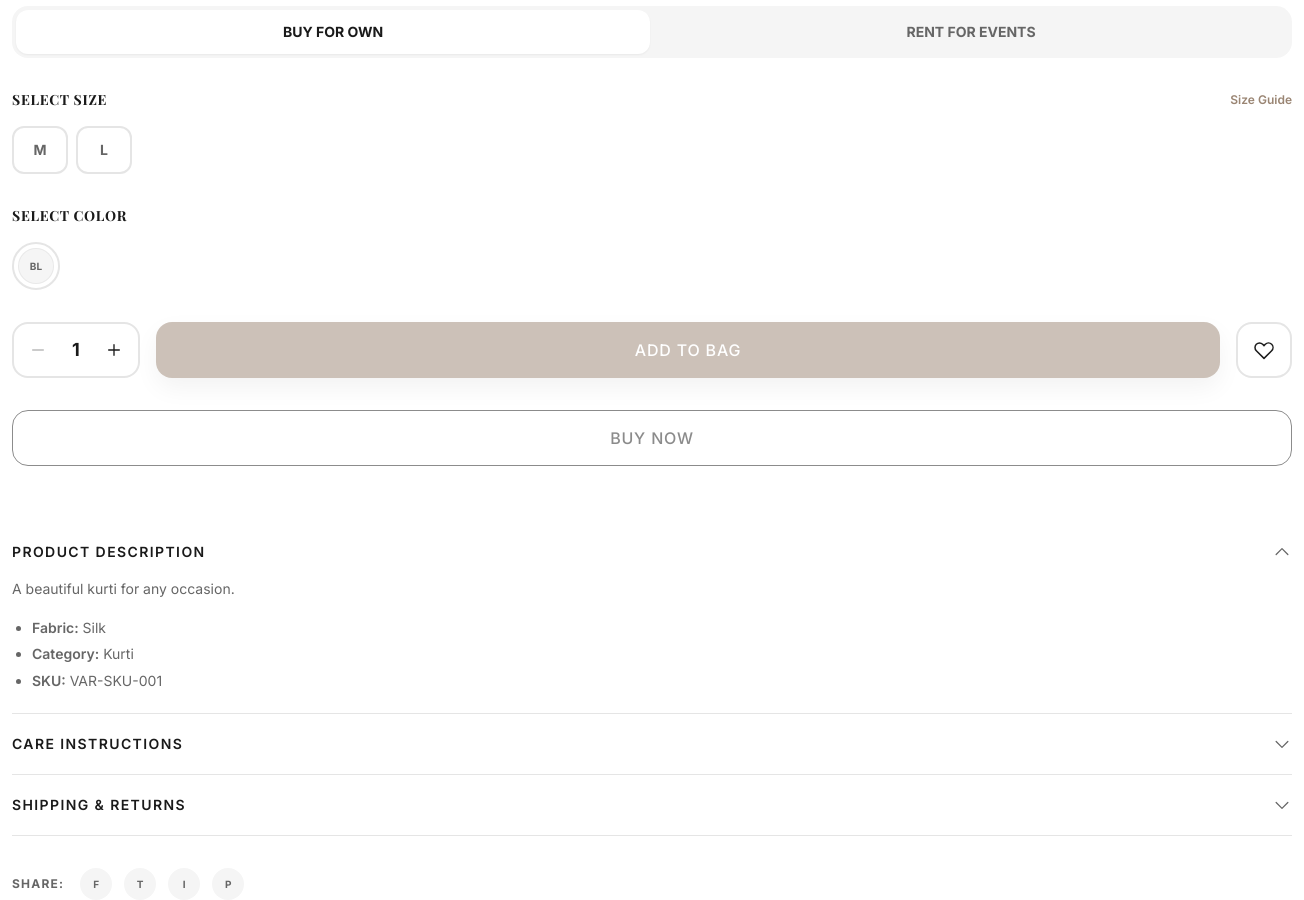
it: ProductInfo › toggles accordion content when clicked
(page scrolled)
Click the button "Care Instructions" at (98, 743), box [12,734,1292,754]
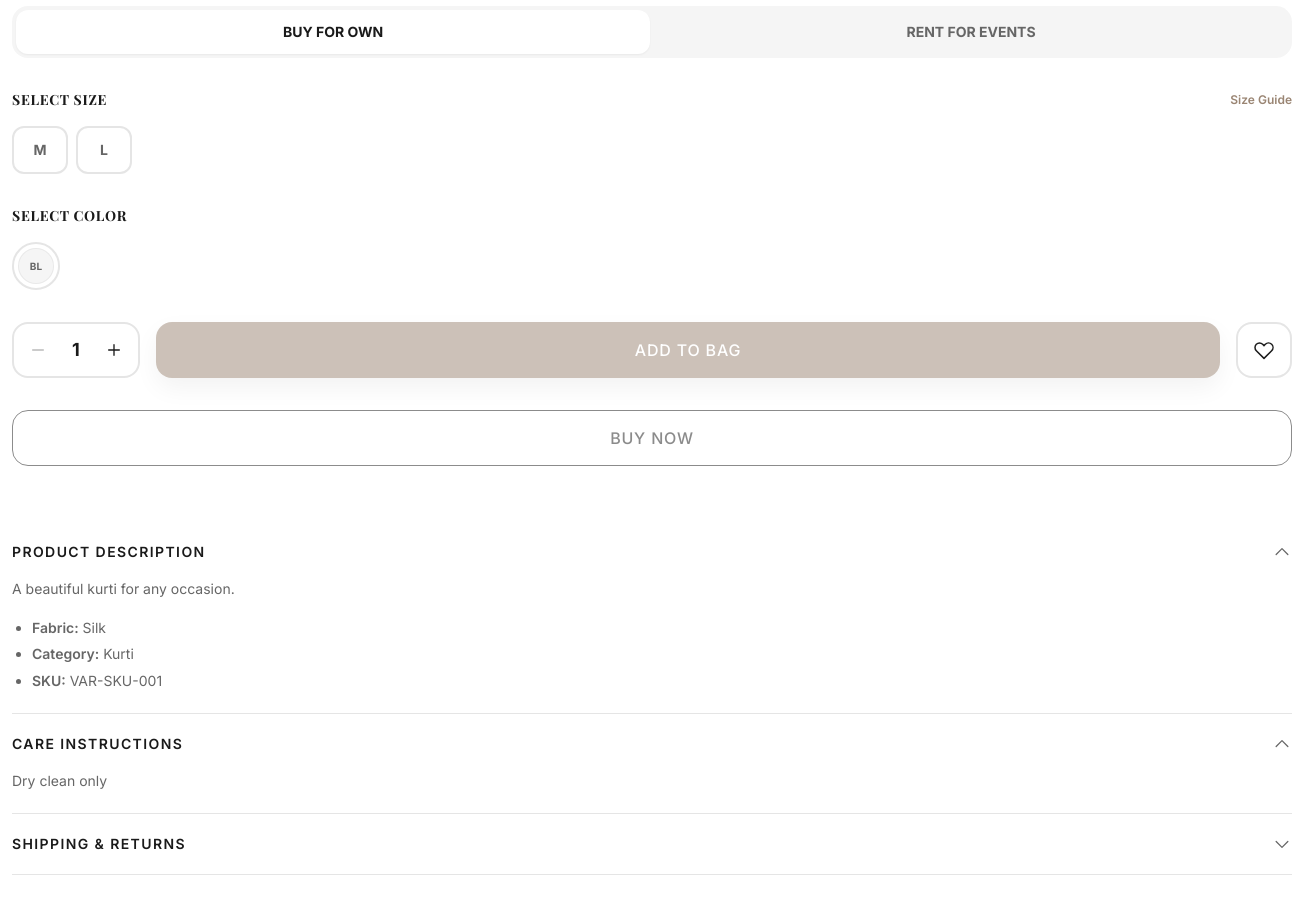
Expected: the text "Dry clean only" is shown, [12,772,107,789]
